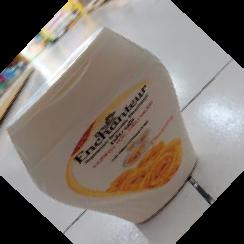enchanter: (7, 25, 198, 225)
